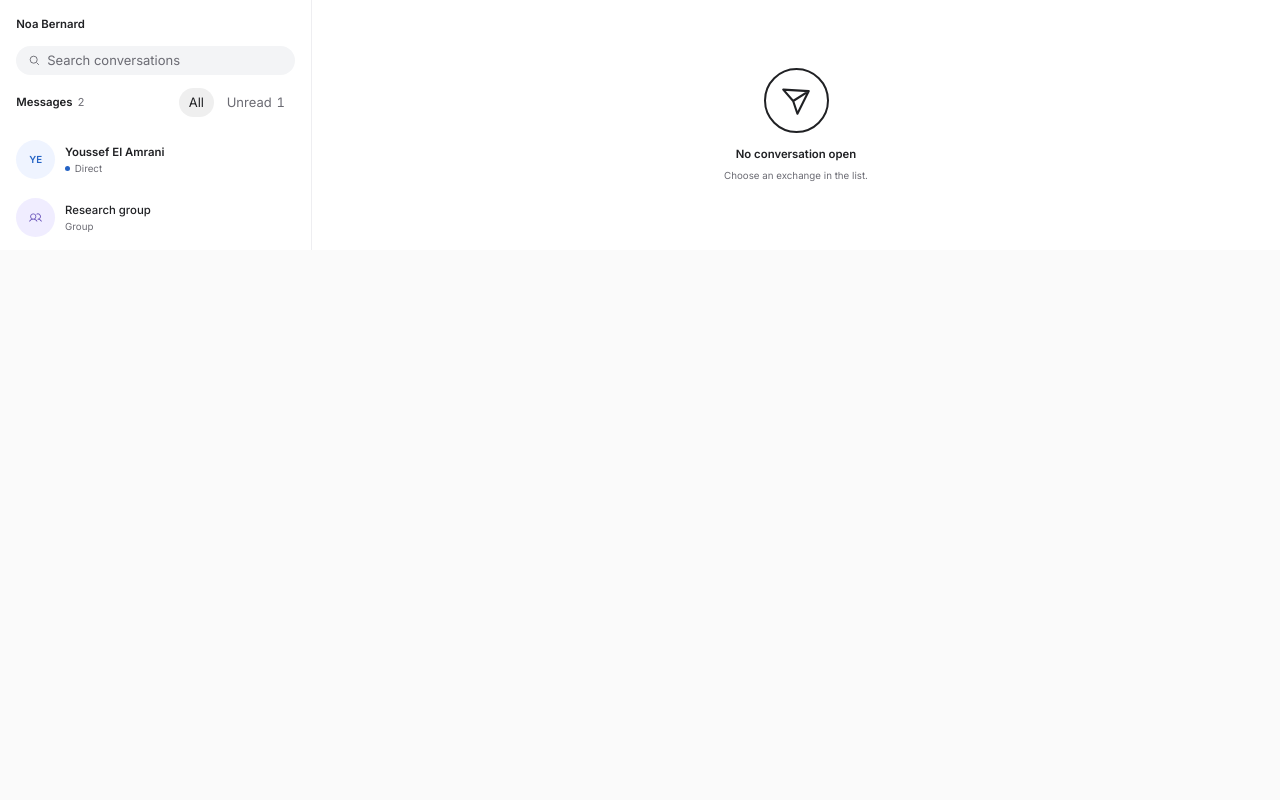
Test: messages page › opens conversation details with the actual participants and thesis context
The image size is (1280, 800).
Click the link "YE Youssef El Amrani Direct": (90, 159) [16,140,164,179]
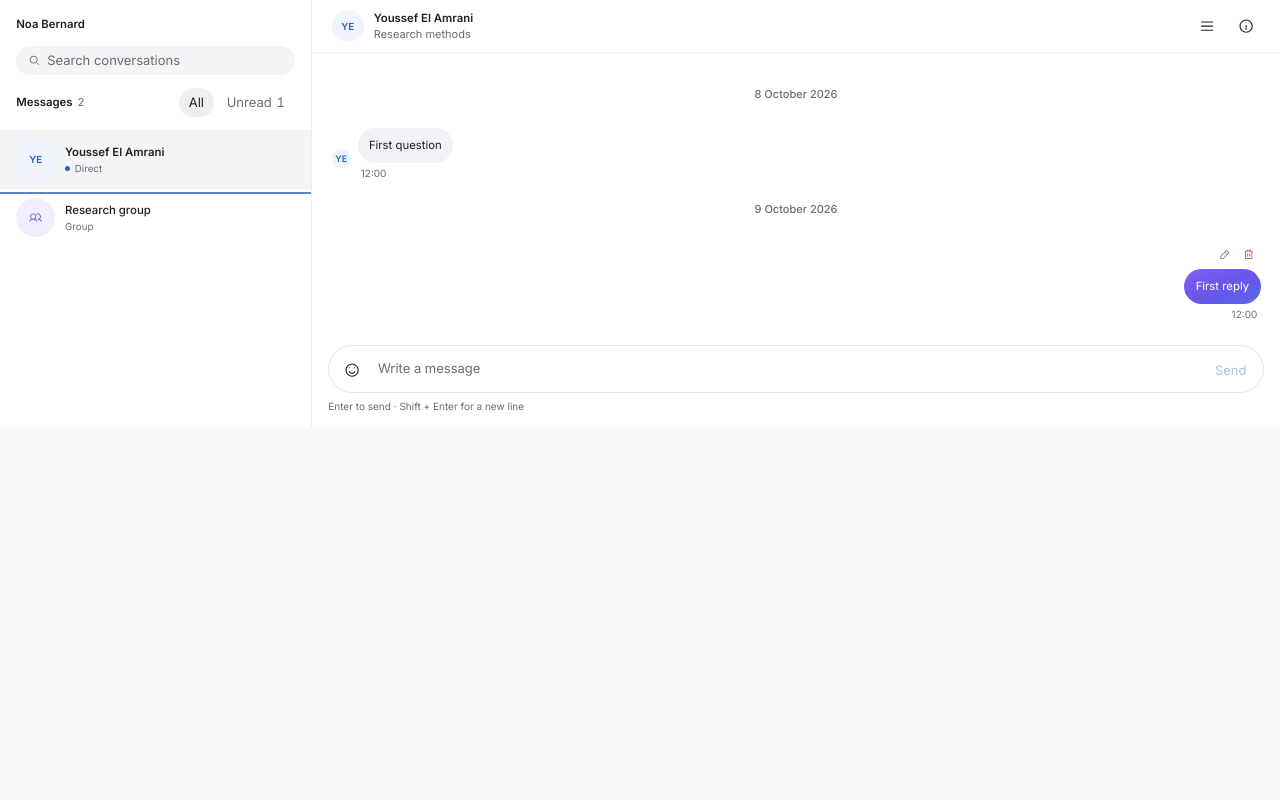
Click the button named "Conversation details": (1246, 26) [1231,12,1261,41]
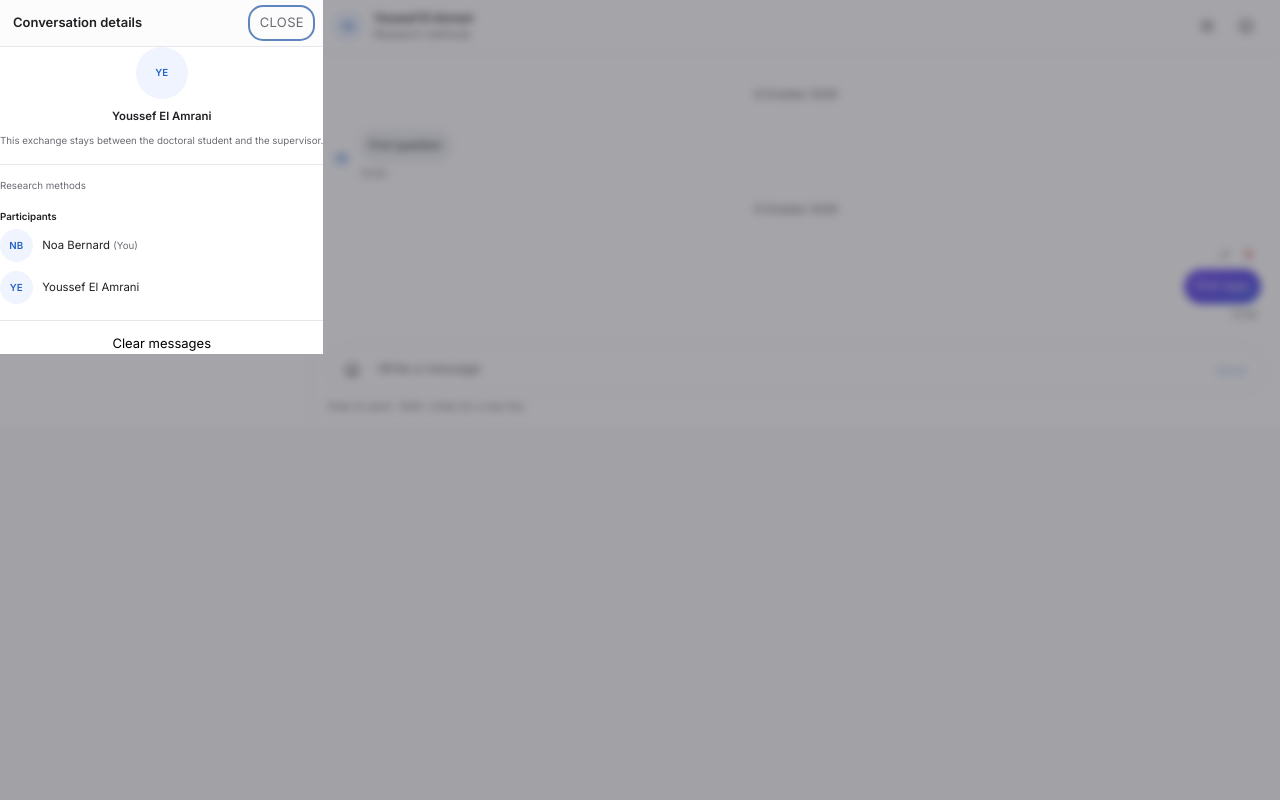
Expected: the text "Research methods" is shown, [0,180,86,190]
Expected: the text "Noa Bernard(You)" is shown, [42,237,138,254]
Expected: the text "Youssef El Amrani" is shown 2 times, [112,108,211,125]; [42,280,139,296]
Click the button "Close": (282, 23) [253,10,310,36]
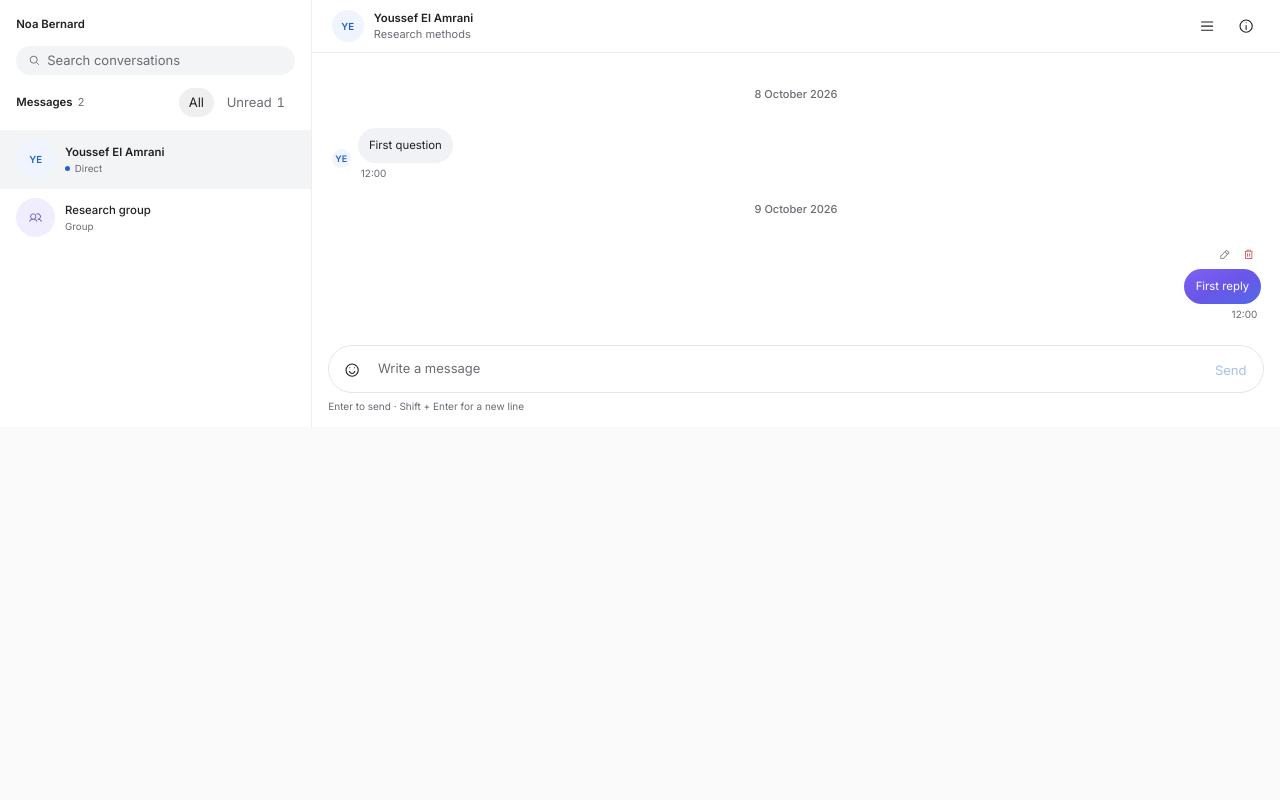
Expected: the dialog is gone
